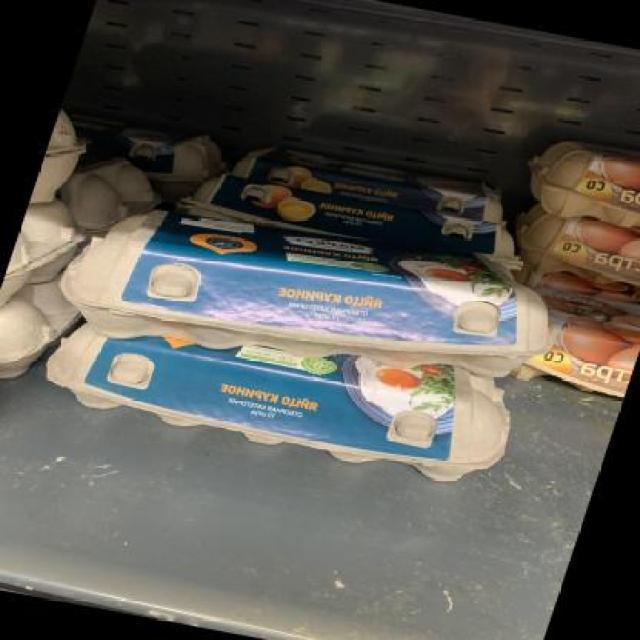egg: (54, 184, 568, 410), (32, 298, 518, 484), (193, 169, 519, 263), (223, 138, 512, 226), (494, 205, 640, 300), (511, 130, 640, 236)
